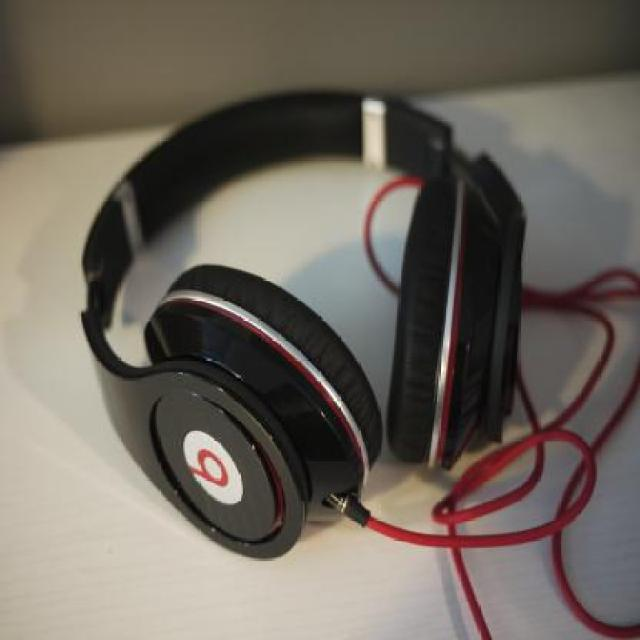earphone: (35, 101, 548, 546)
